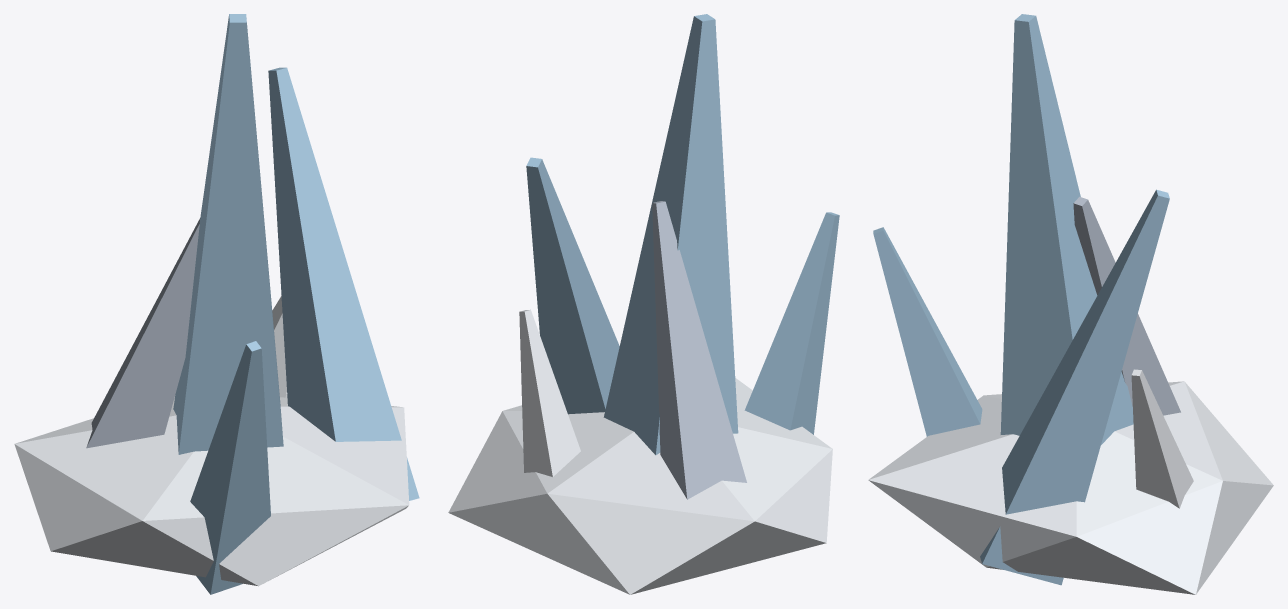
File: ice_shards.glb
3 renders of one model, left to right at view 1: azimuth 30°, elevation 25°; view 2: azimuth 150°, elevation 25°; view 3: azimuth 270°, elevation 25°, orthographic. The views are drawn at different scales.
Visible parts, largest first — view 1: ice_shards; view 2: ice_shards; view 3: ice_shards.
Boxes of the visible parts, <box> form: ice_shards: <box>14,14,419,594</box>; ice_shards: <box>448,14,839,594</box>; ice_shards: <box>868,14,1273,594</box>.
Bounding box in the file's own units: 0.5085 × 0.7732 × 0.5363.
1 material, 1 textured.
